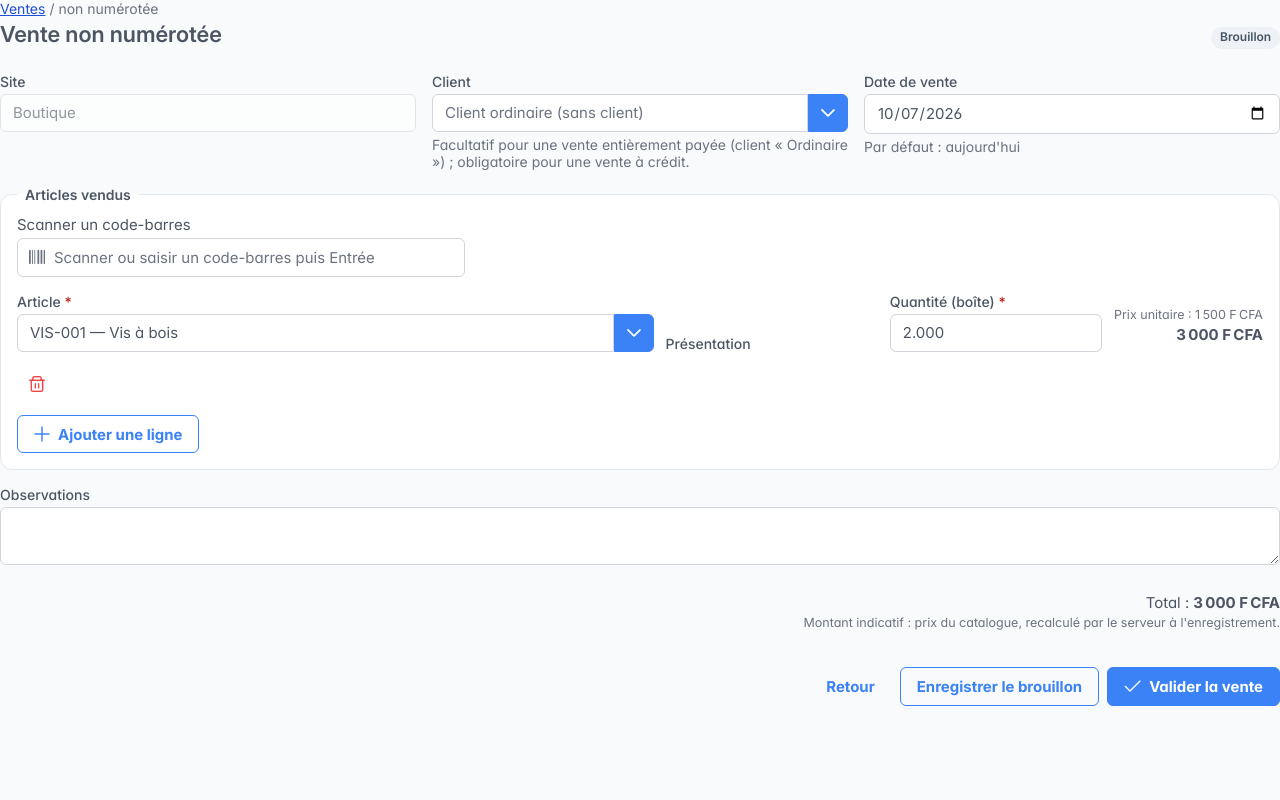
Test: brouillons de vente (back-office) › brouillon inchangé : validé sans réenregistrement
This screenshot has width=1280, height=800.
Expected: the heading "Vente non numérotée" is shown, [0,21,222,48]
Click the button "Valider la vente": (1194, 686) [1107,667,1279,706]
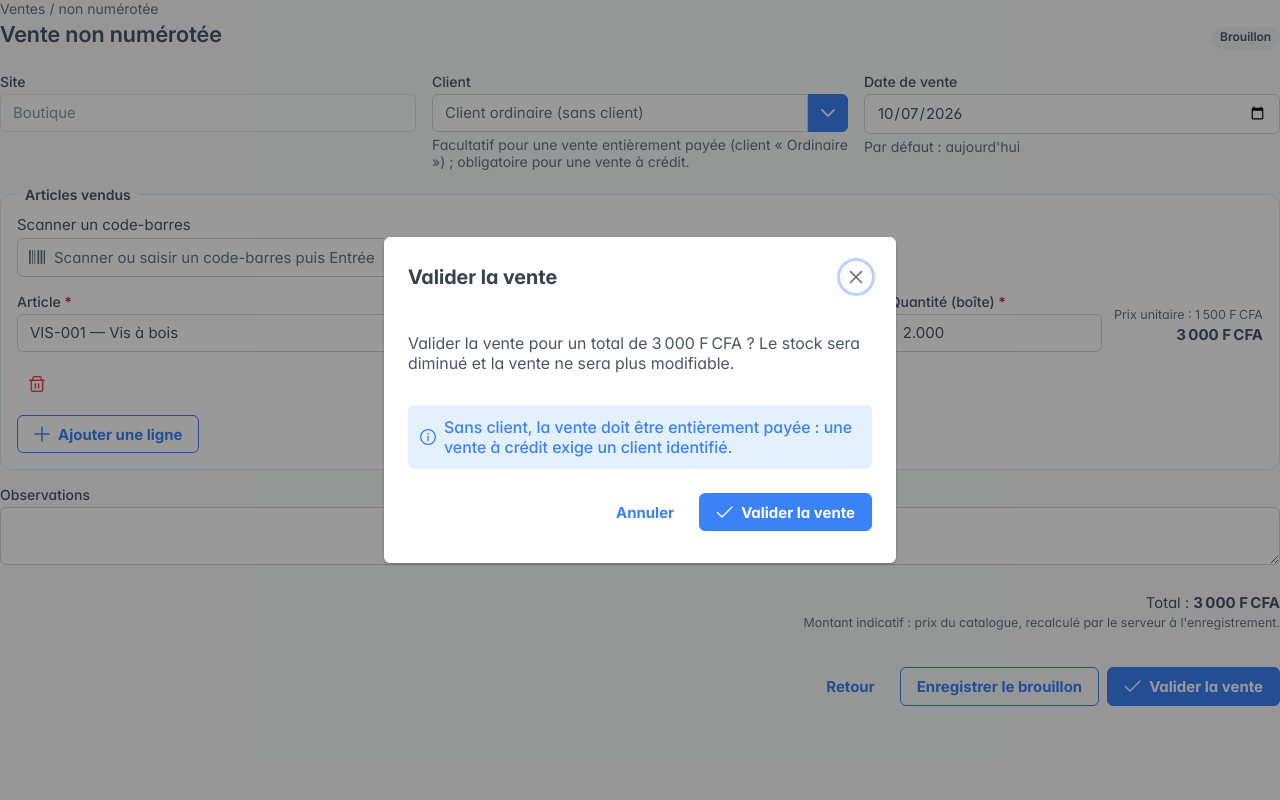
Click the button "Valider la vente": (786, 512) [699,493,872,531]
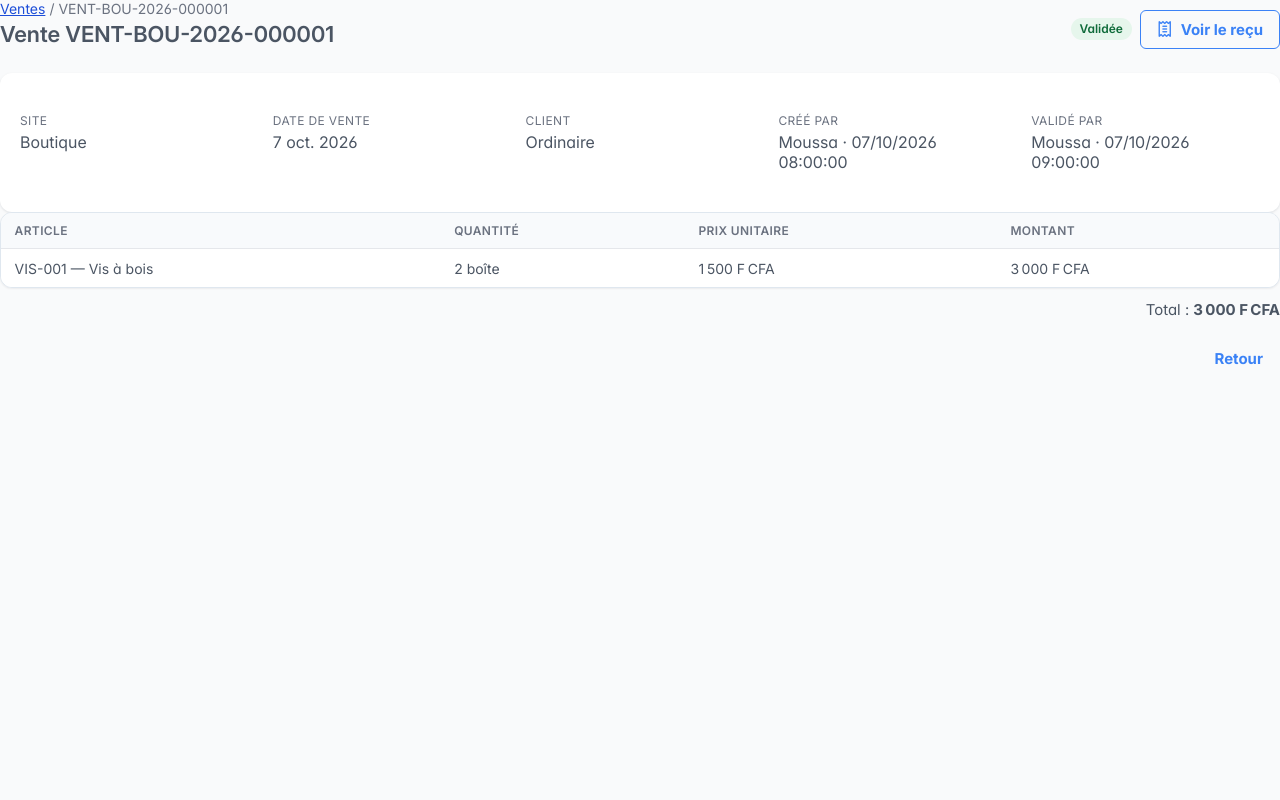
Expected: the heading "Vente VENT-BOU-2026-000001" is shown, [0,21,334,48]
